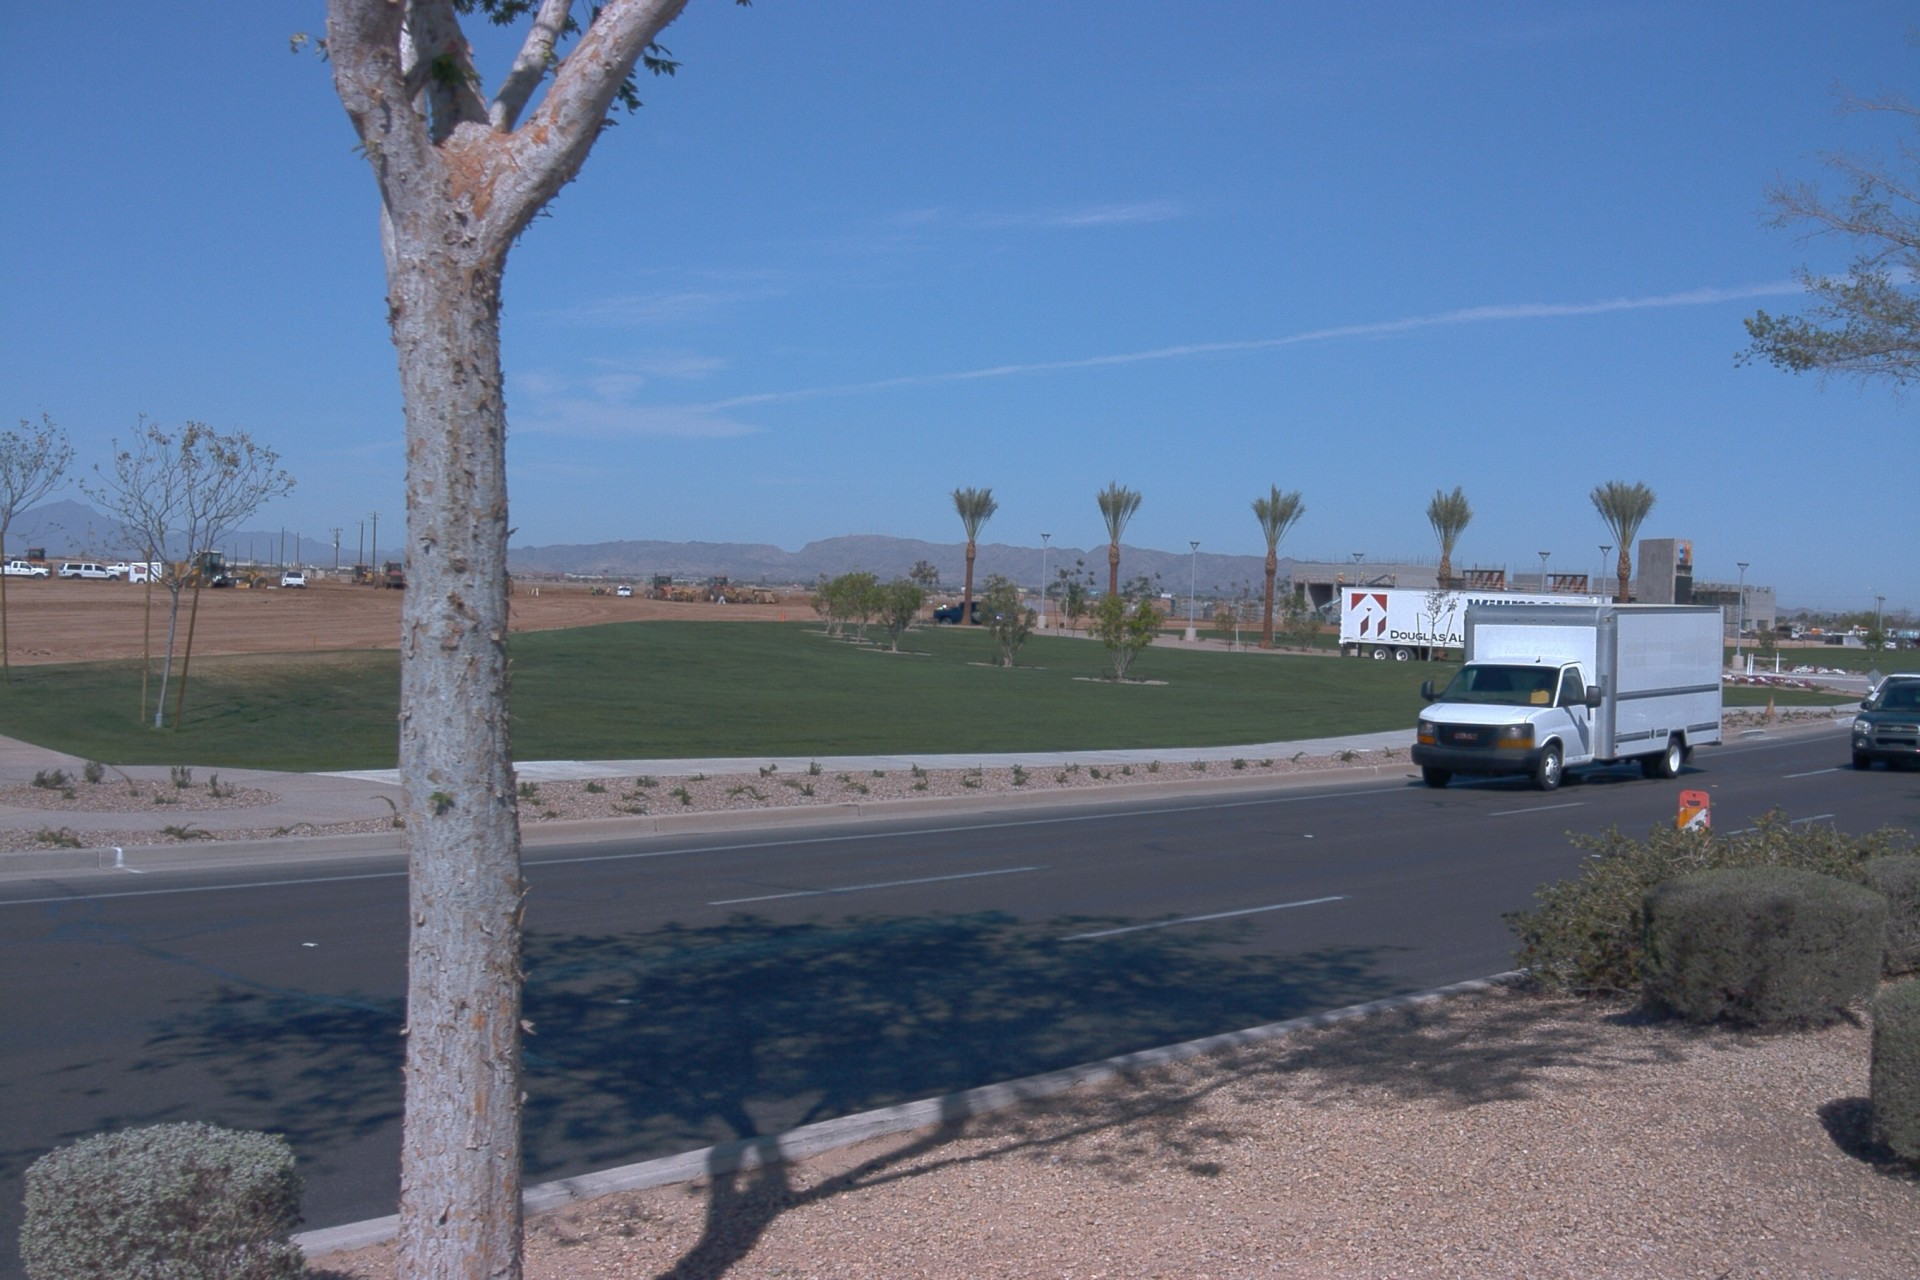TYPE_PEDESTRIAN: (605, 585, 613, 598), (936, 605, 949, 613), (591, 585, 597, 598)
TYPE_VEHICLE: (1410, 605, 1728, 792), (1335, 581, 1615, 672), (1849, 676, 1920, 771), (150, 552, 269, 595), (1318, 567, 1397, 613), (1862, 672, 1920, 715), (931, 604, 998, 628), (372, 559, 408, 593), (57, 565, 120, 584), (0, 560, 50, 582), (131, 563, 166, 586), (276, 572, 309, 592), (352, 564, 375, 584), (501, 567, 515, 598), (101, 562, 124, 575), (1015, 587, 1031, 605), (615, 582, 632, 596)
